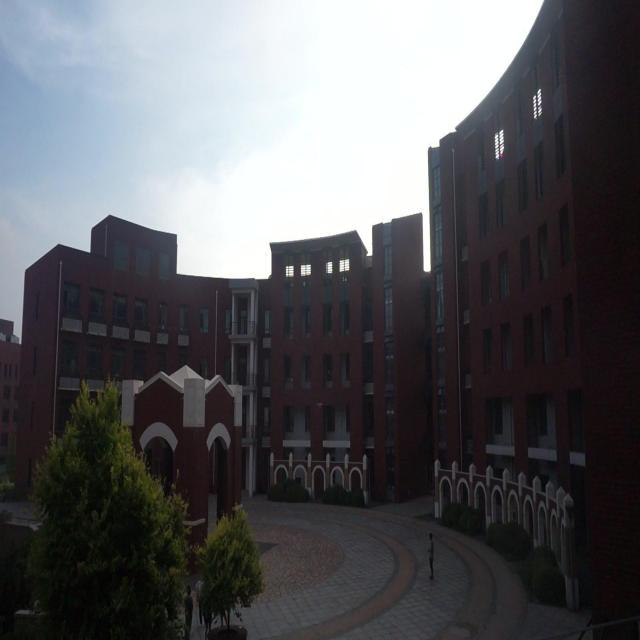UAV: (317, 403, 323, 408)
